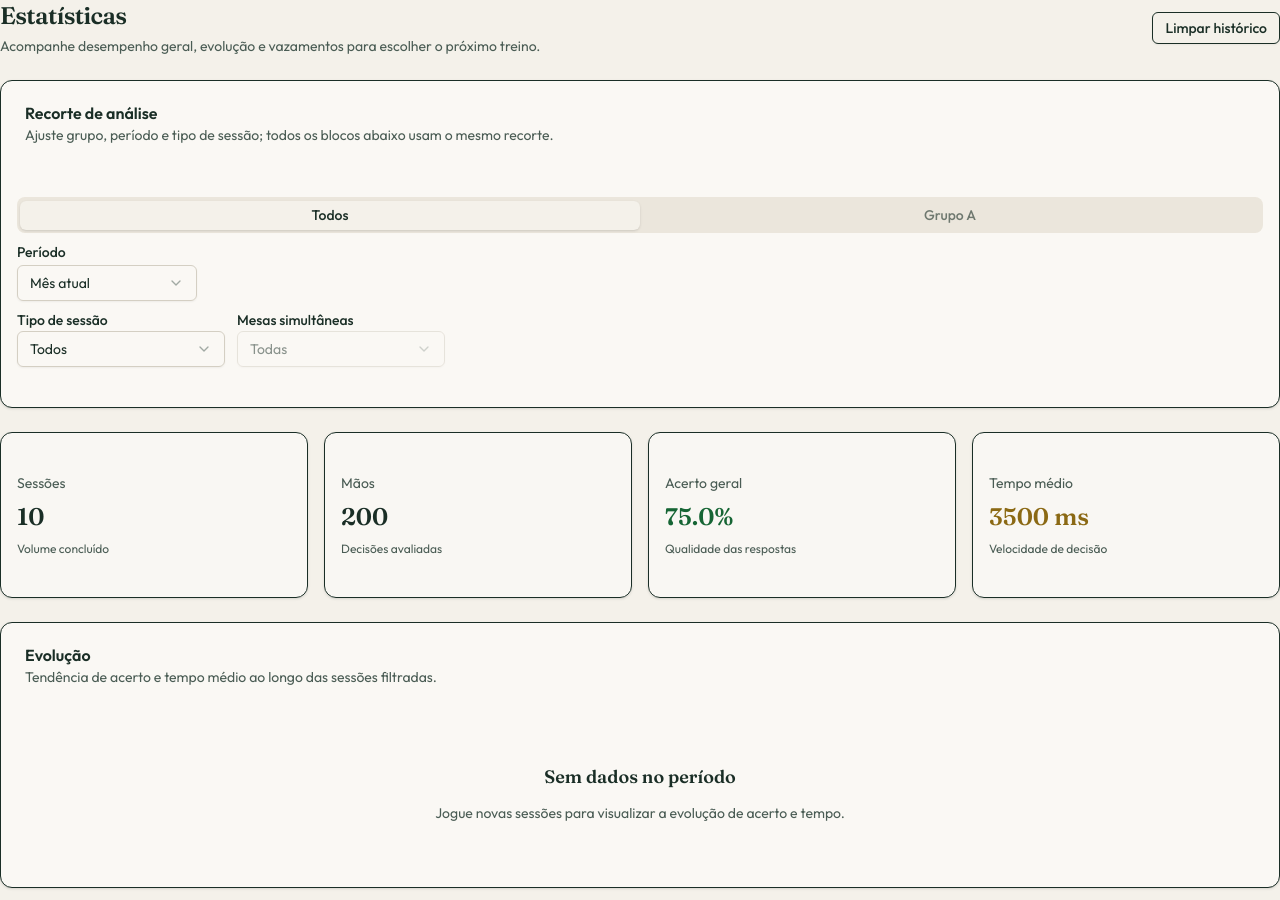
StatsPage › abre ClearStatsDialog ao clicar Limpar histórico
The width and height of the screenshot is (1280, 900).
What coordinates should you click on to do the following:
click the button with test id "clear-stats-button"
I would click on:
 (1216, 28)
Its box is 1152,12 -> 1279,44.
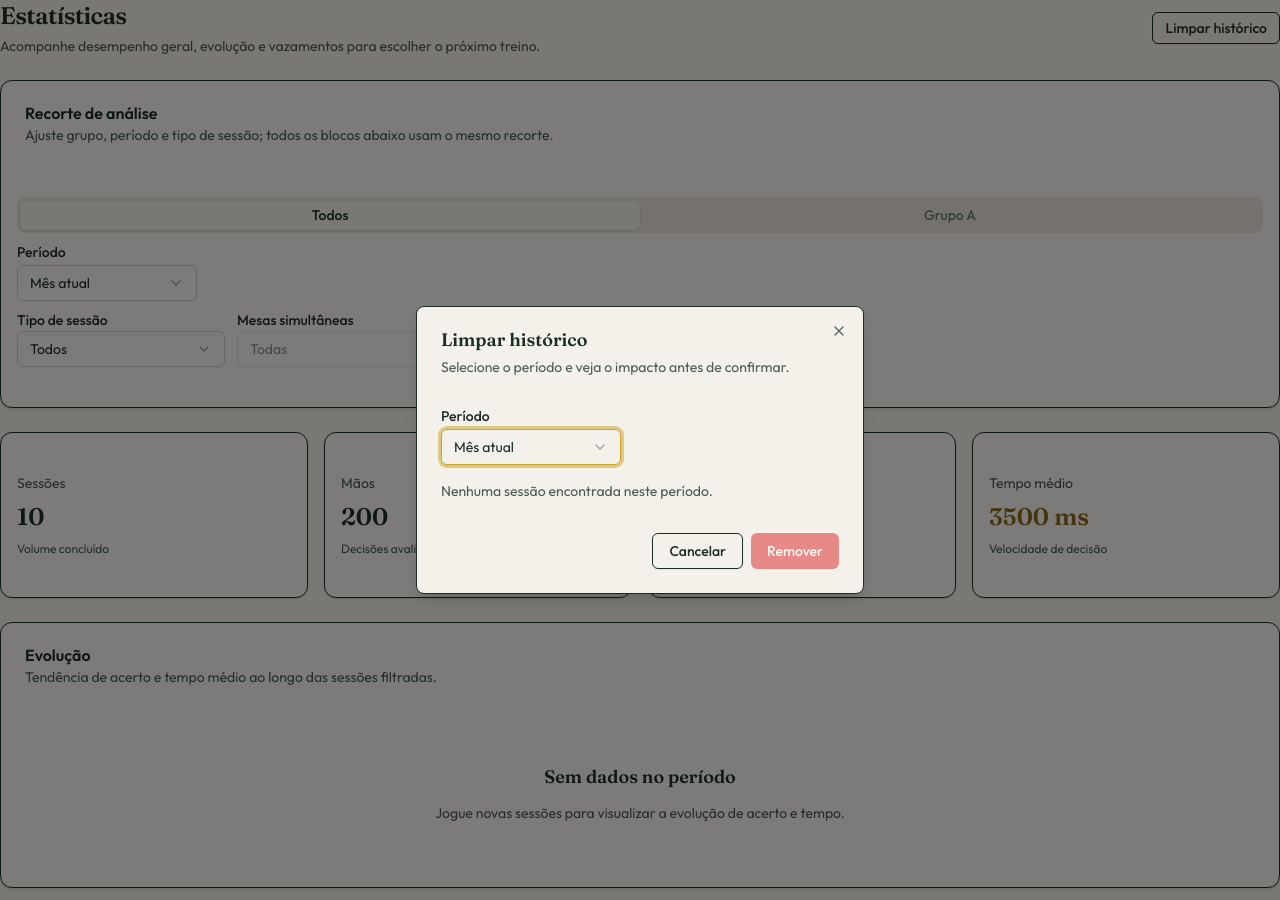
Expected: the dialog is shown, 416,306 -> 864,594
